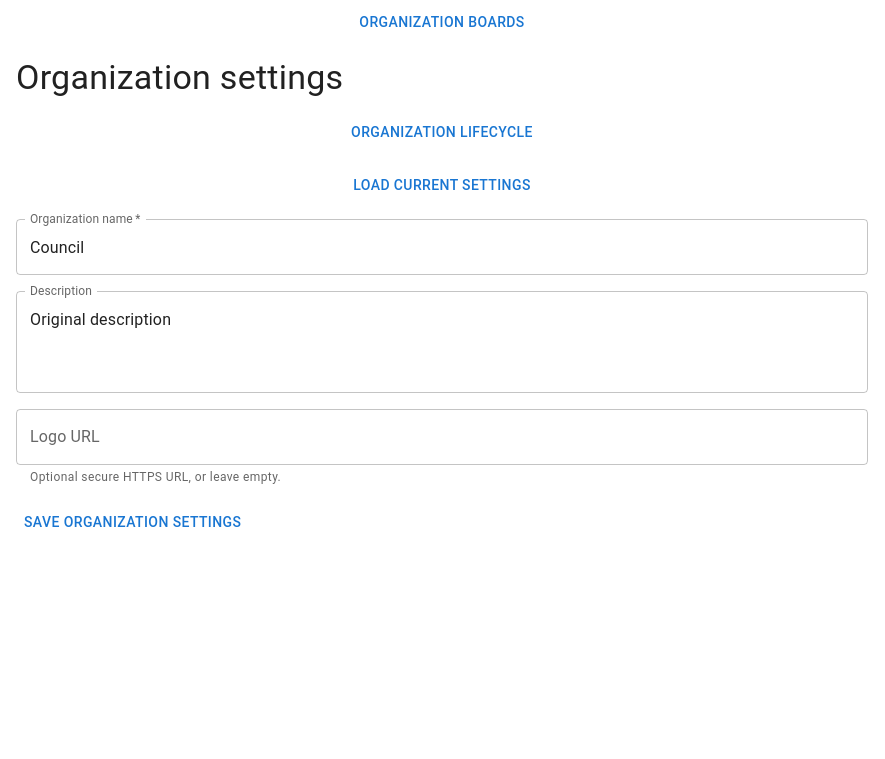
it: PRD-03-TC-01/05/06/08 Organization metadata administration › does not invent an original save when the pre-save account check fails
This screenshot has width=885, height=759.
Replace the text in the field labelled "Organization name *" with "Preserved draft" at (442, 248), box x1=16 y1=220 x2=868 y2=276
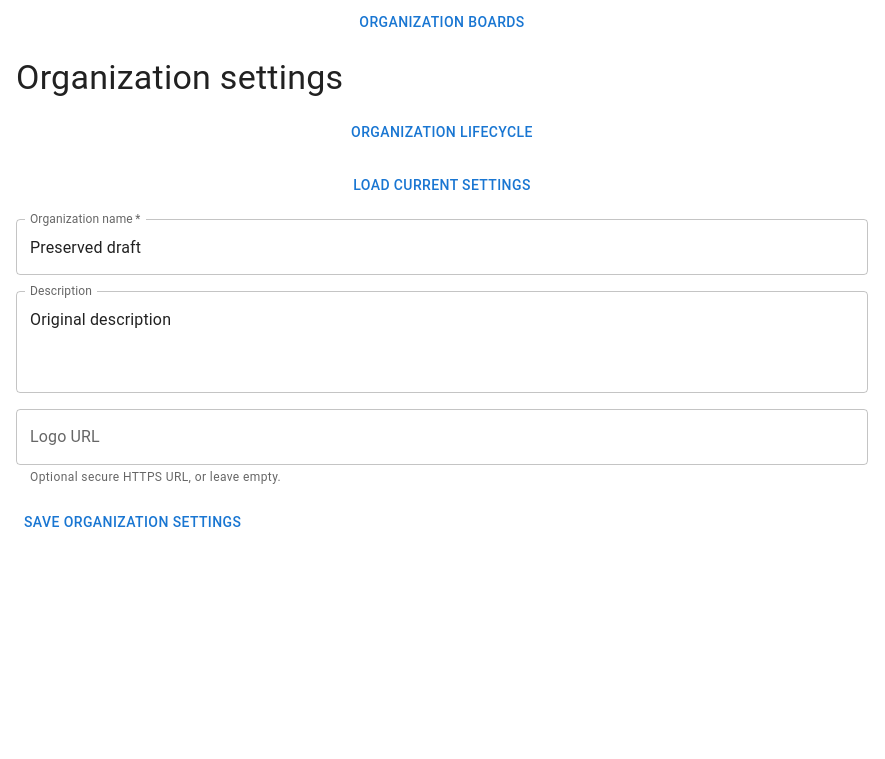
Click the button "Save Organization settings".
click(133, 523)  # box x1=16 y1=504 x2=249 y2=541
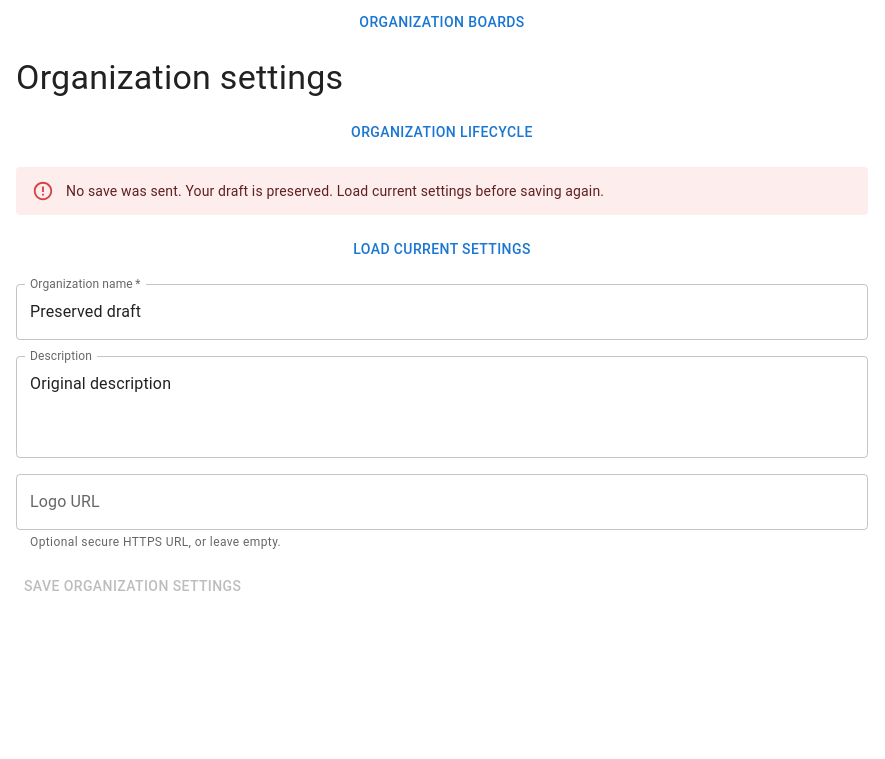
Expected: the text "No save was sent" is shown, x1=66 y1=183 x2=604 y2=199
Expected: the button "Save Organization settings" is disabled, x1=16 y1=568 x2=249 y2=605
Click the button "Load current settings".
click(442, 249)  # box x1=16 y1=231 x2=868 y2=268
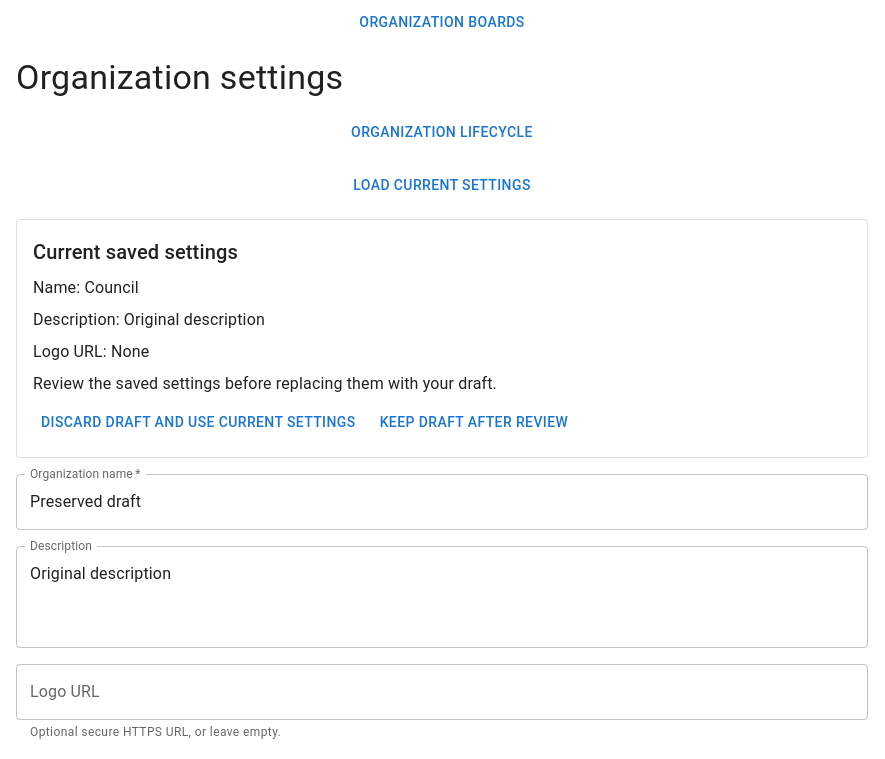
Expected: the text "Name: Council" is shown, x1=33 y1=278 x2=139 y2=298
Click the button "Keep draft after review".
click(474, 423)  # box x1=372 y1=404 x2=576 y2=441
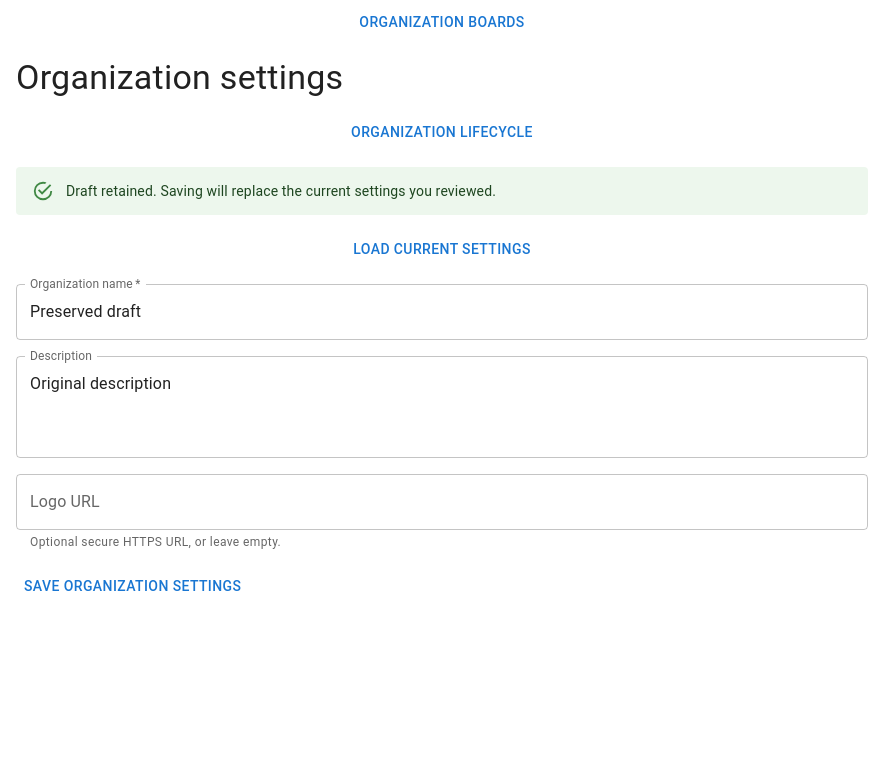
Expected: the button "Save Organization settings" is enabled, x1=16 y1=568 x2=249 y2=605
